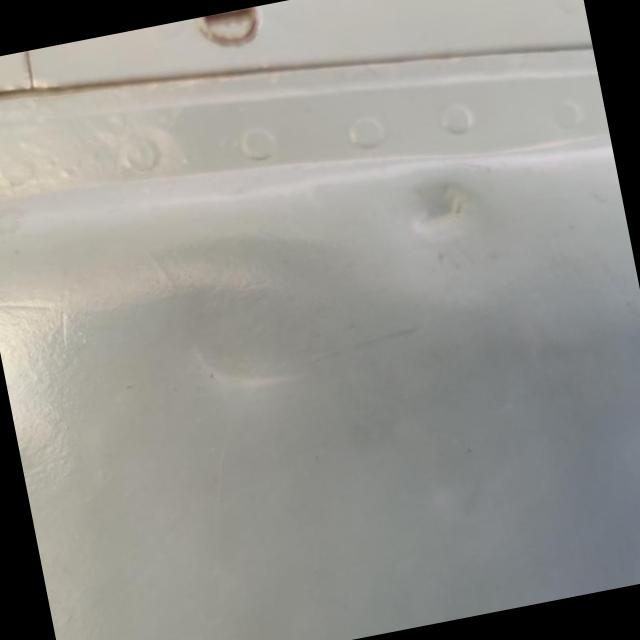Dent: (172, 298, 336, 411), (372, 168, 507, 262)
